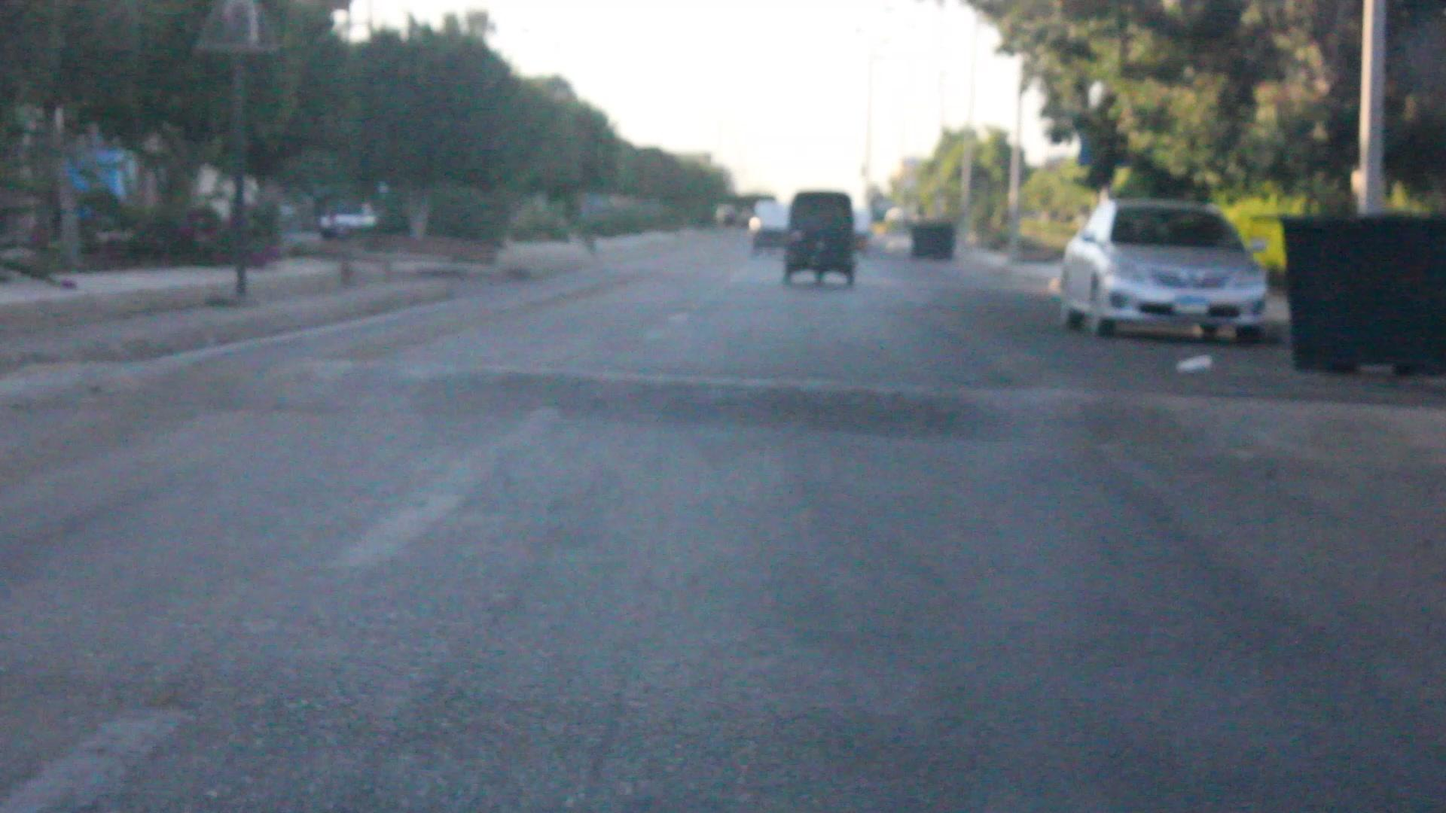Bump: (23, 358, 1446, 476)
